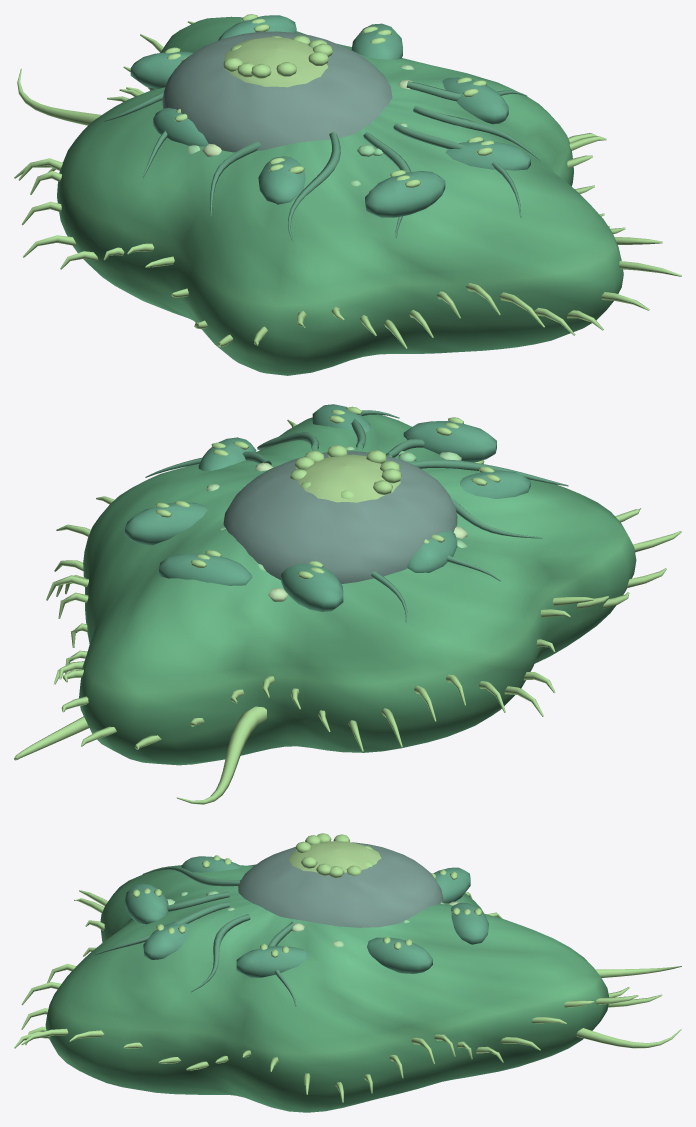
The model's file is microbe.glb.
3 renders of one model, top to bottom at view 1: azimuth 30°, elevation 25°; view 2: azimuth 150°, elevation 25°; view 3: azimuth 270°, elevation 25°, orthographic. The views are drawn at different scales.
Visible parts, largest first — view 1: membrane, body, cilia, tail; view 2: membrane, body, cilia, tail; view 3: membrane, body, cilia, tail.
Boxes of the visible parts, <box> form: membrane: <box>57,16,623,375</box>; body: <box>130,14,530,217</box>; cilia: <box>14,21,681,348</box>; tail: <box>17,68,101,125</box>; membrane: <box>79,410,636,765</box>; body: <box>125,404,530,611</box>; cilia: <box>46,419,681,751</box>; tail: <box>14,706,266,804</box>; membrane: <box>45,864,609,1112</box>; body: <box>125,833,488,977</box>; cilia: <box>14,890,662,1102</box>; tail: <box>575,966,681,1048</box>.
Bounding box in the file's own units: 2.09 × 0.9774 × 2.78.
